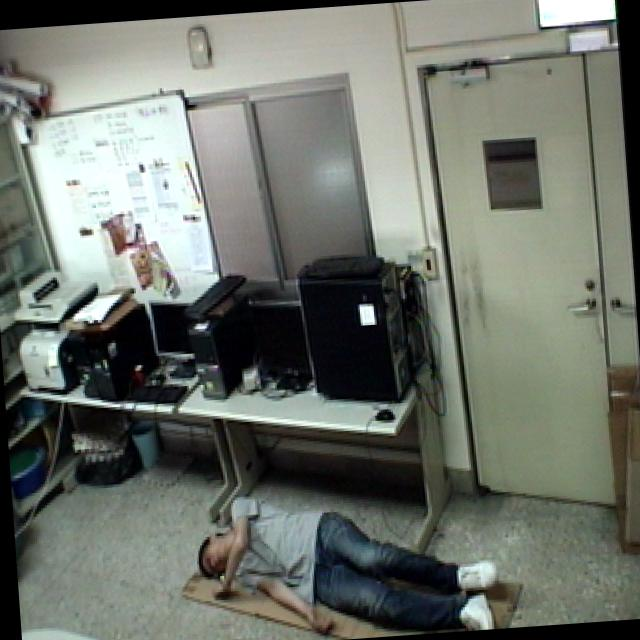lie: (183, 470, 508, 640)
